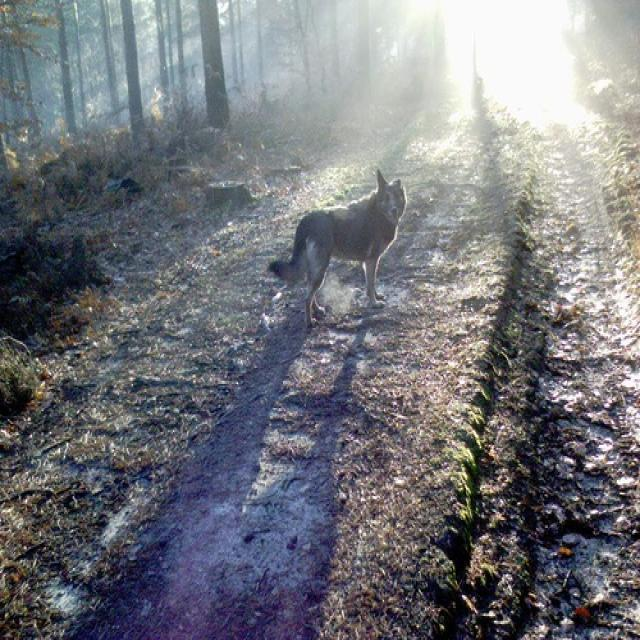dog: (266, 168, 406, 330)
